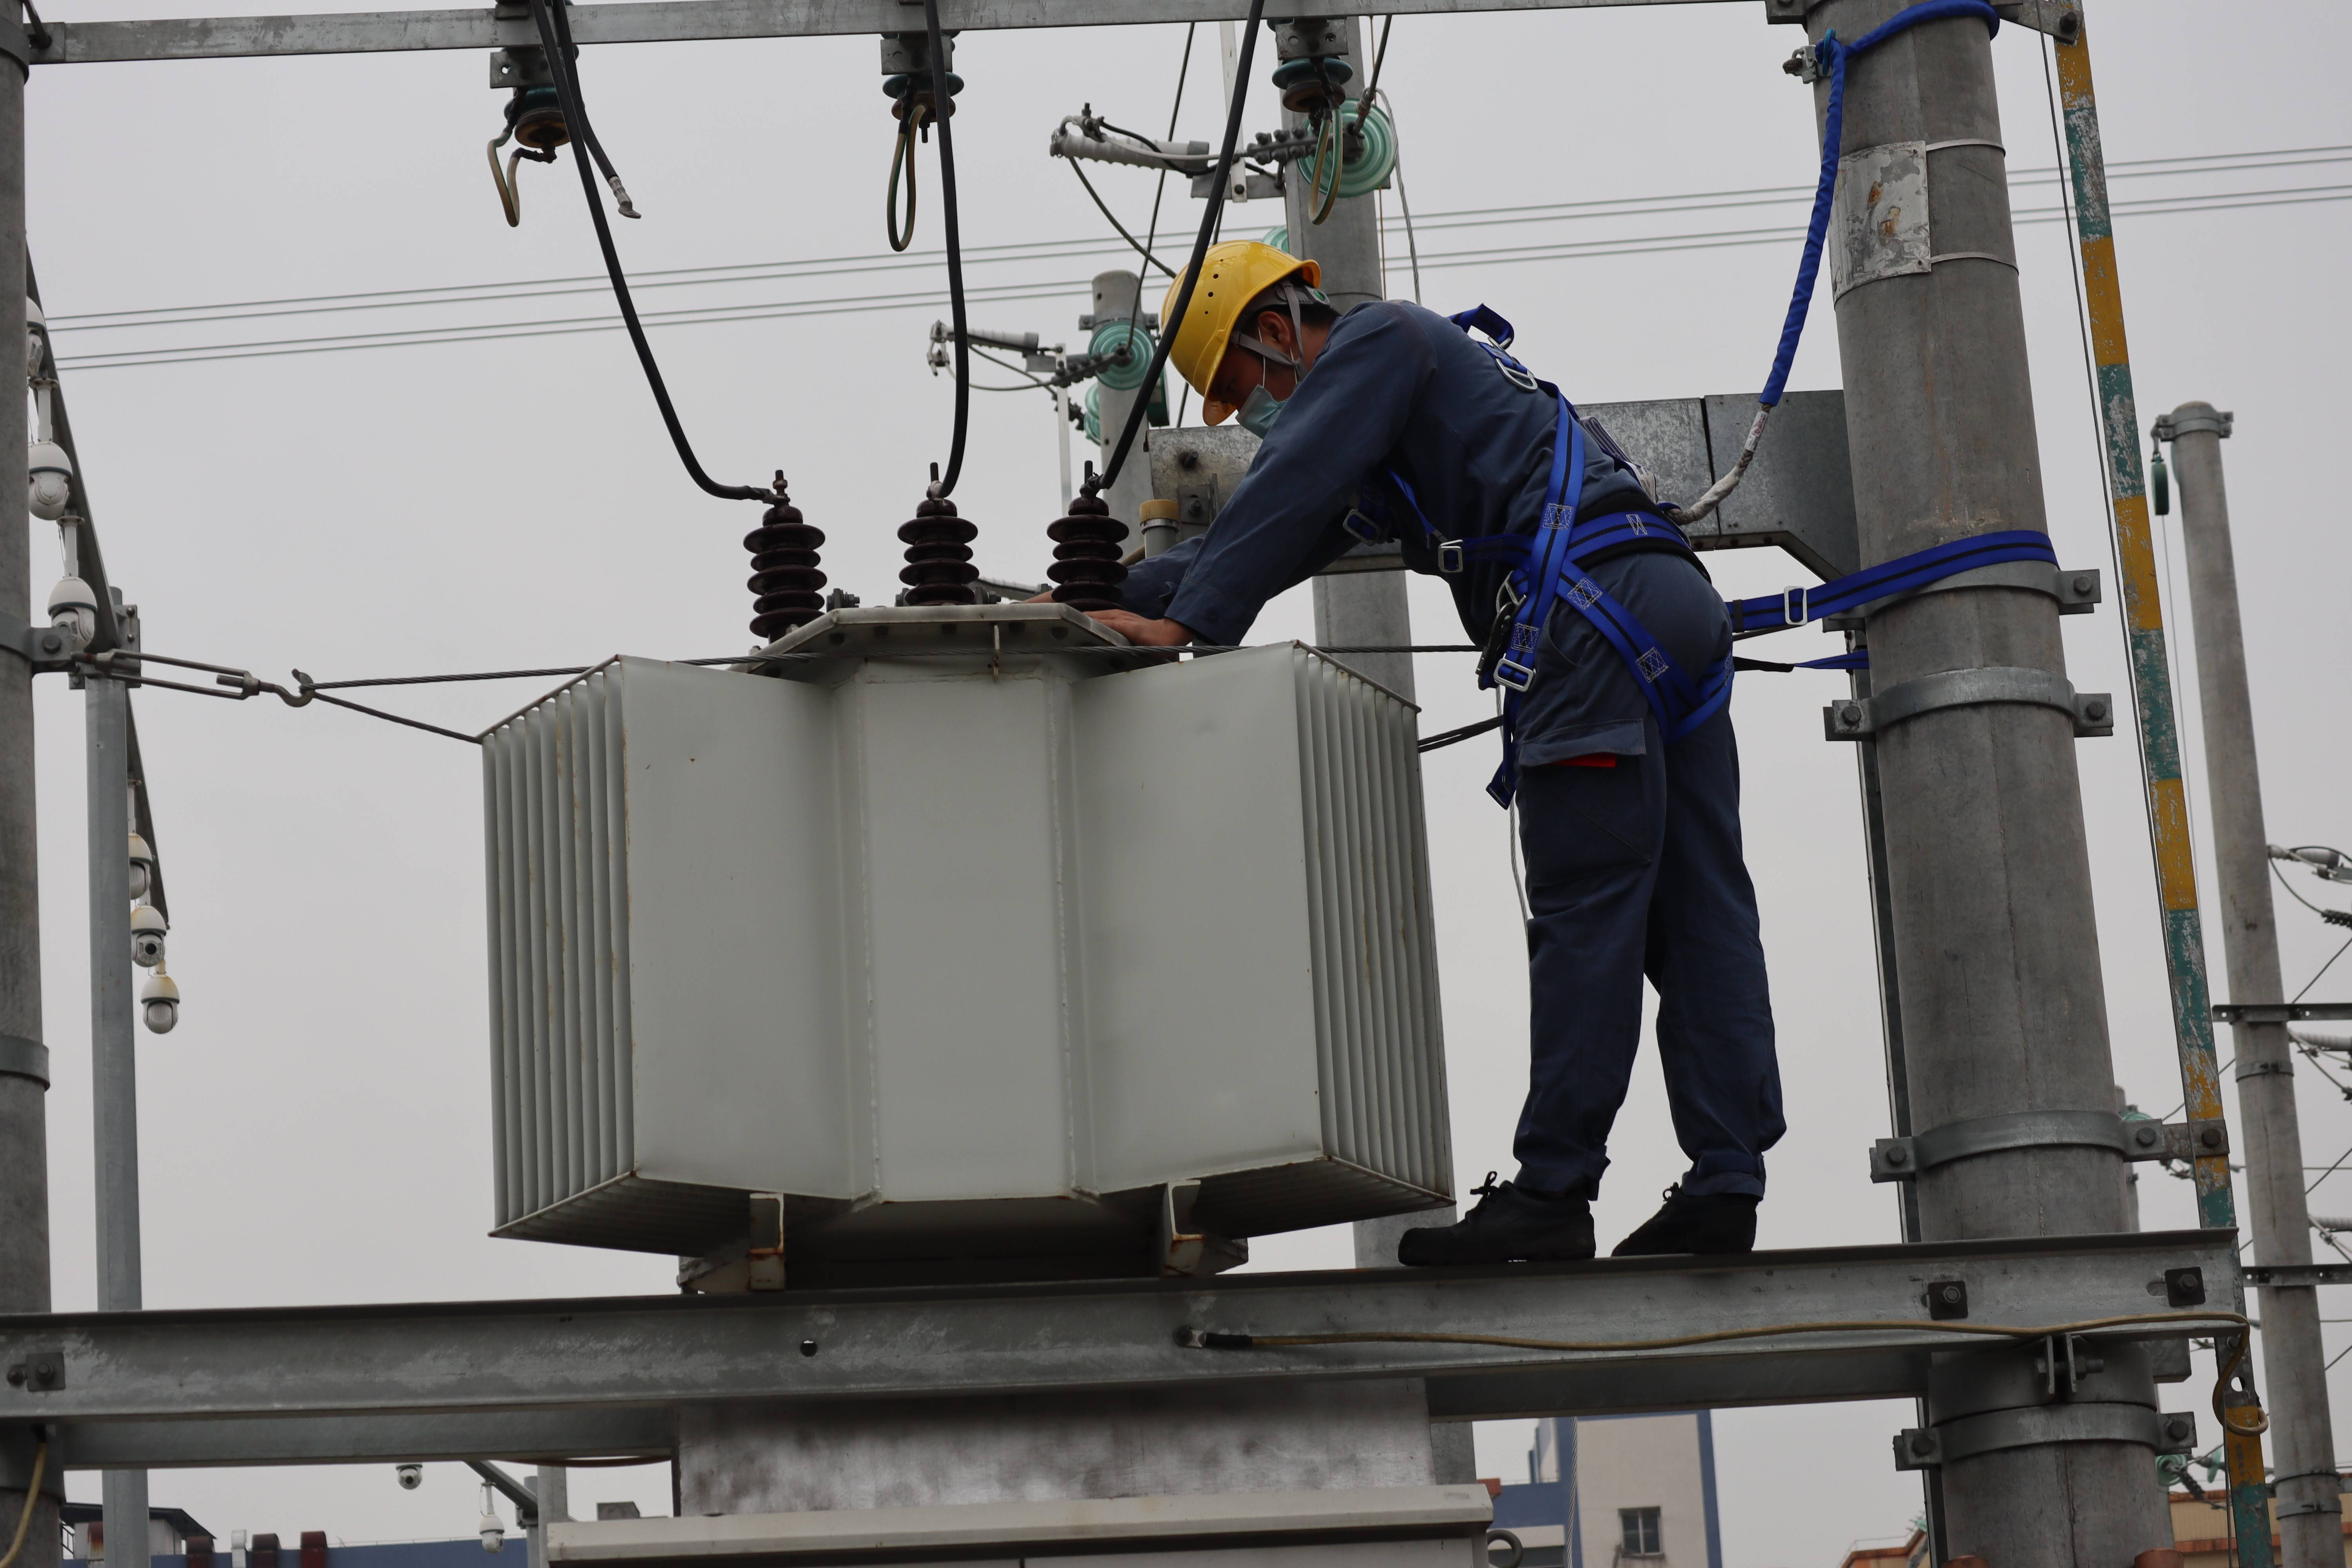downsuit: (1496, 579, 1797, 1190)
upsuit: (1123, 296, 1656, 597)
